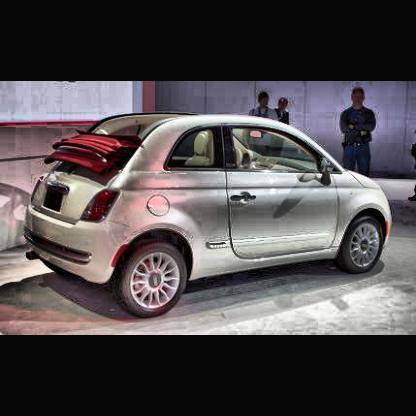FIAT 500 Convertible 2012: (23, 114, 393, 316)
